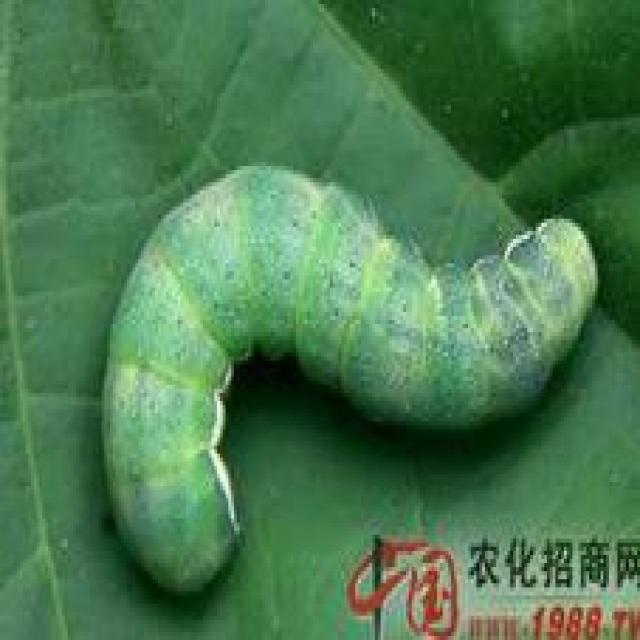armyworm: (84, 181, 618, 640)
